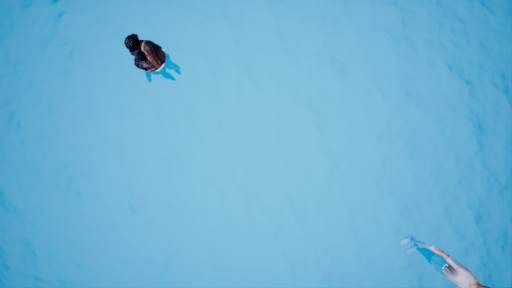person: (396, 232, 495, 288), (120, 30, 182, 83)
